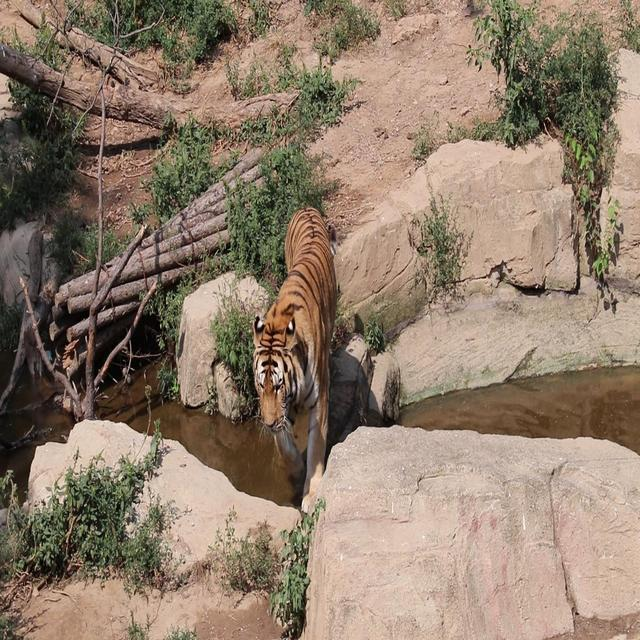tiger: (250, 205, 338, 516)
